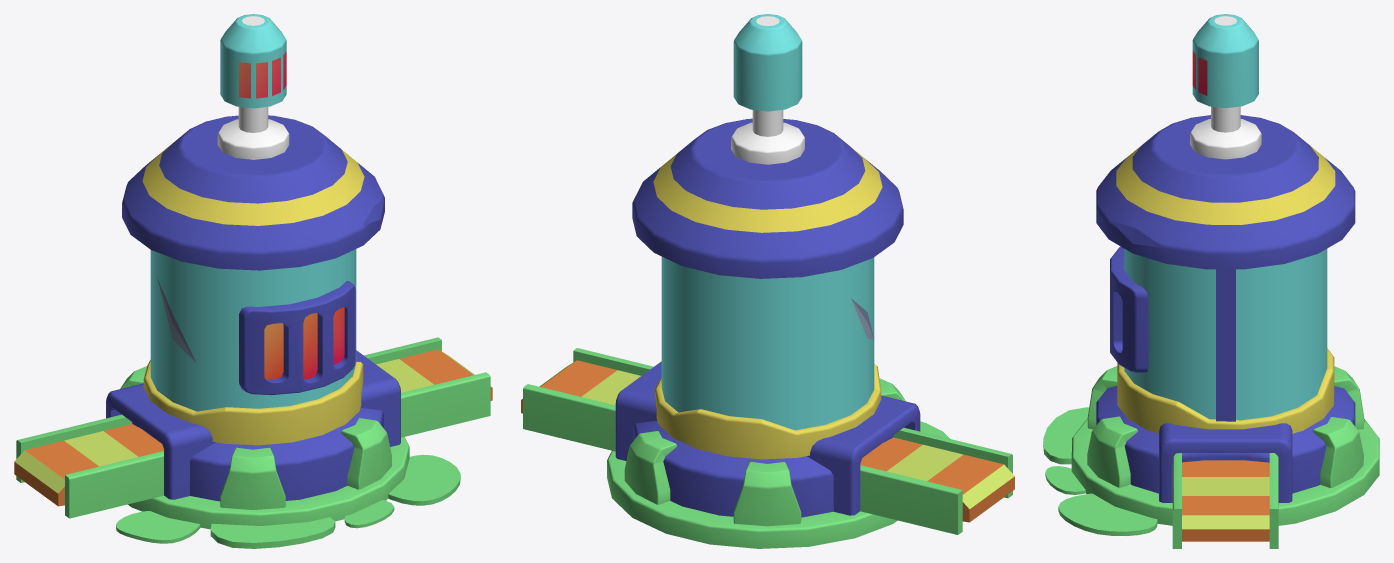
File: IronHouse many parts.fbx
The picture shows the model from 3 angles, left to right: view 1: azimuth 30°, elevation 25°; view 2: azimuth 150°, elevation 25°; view 3: azimuth 270°, elevation 25°; orthographic projection. The views are drawn at different scales.
Visible parts, largest first — view 1: Circle.025, Circle.030, Circle.010, Circle.029, Circle.027, Circle.024, Circle.028; view 2: Circle.025, Circle.030, Circle.029, Circle.024, Circle.010, Circle.028; view 3: Circle.025, Circle.030, Circle.010, Circle.029, Circle.024, Circle.028, Circle.027, Circle.026.
Boxes of the visible parts, x1,y1,x2,y2 form: Circle.025: (122, 115, 384, 411); Circle.030: (14, 337, 492, 518); Circle.010: (116, 437, 460, 548); Circle.029: (132, 360, 383, 501); Circle.027: (239, 281, 355, 395); Circle.024: (217, 14, 289, 159); Circle.028: (120, 366, 391, 509); Circle.025: (632, 118, 903, 430); Circle.030: (521, 348, 1014, 534); Circle.029: (633, 364, 893, 517); Circle.024: (731, 14, 804, 164); Circle.010: (607, 421, 949, 548); Circle.028: (624, 378, 905, 526); Circle.025: (1096, 115, 1355, 420); Circle.030: (1159, 423, 1292, 548); Circle.010: (1043, 407, 1379, 535); Circle.029: (1096, 348, 1355, 493); Circle.024: (1190, 14, 1261, 159); Circle.028: (1087, 366, 1364, 487); Circle.027: (1110, 246, 1148, 372); Circle.026: (1216, 269, 1235, 421).
Bounding box in the file's own units: 592 × 579 × 398.
